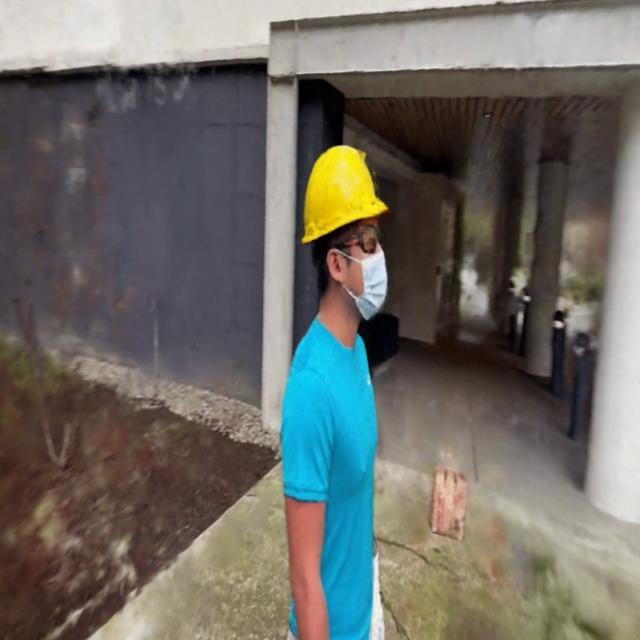helmet: (299, 144, 391, 240)
